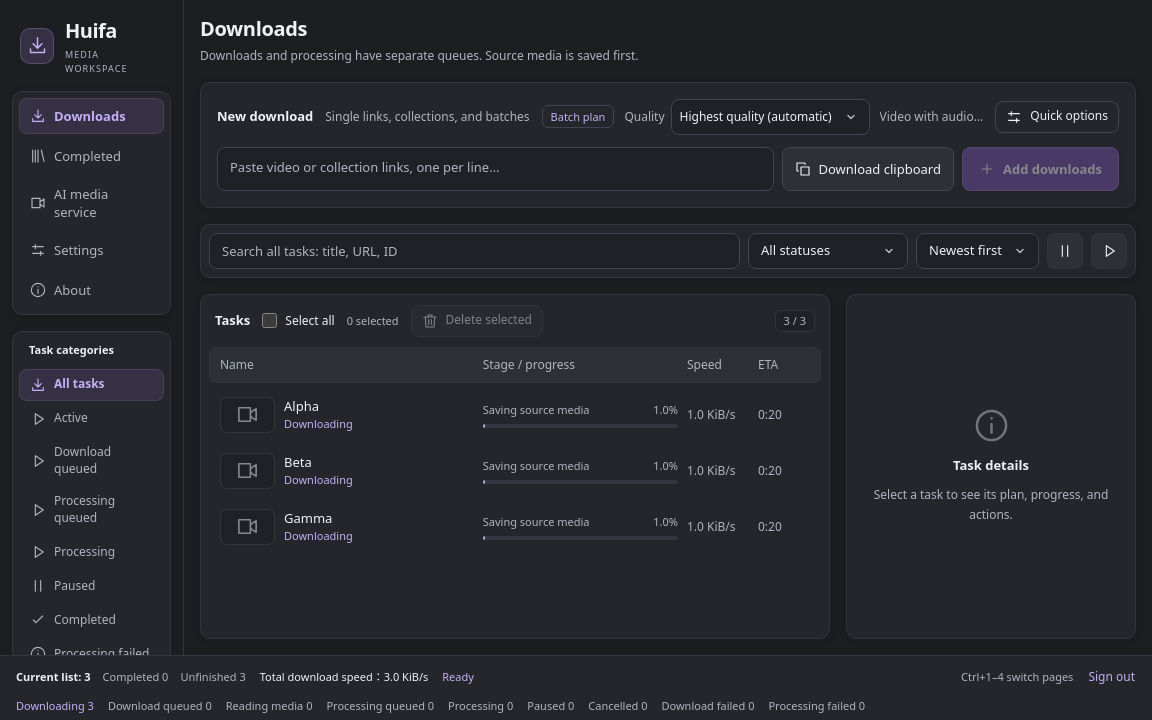
Test: task list multiple selection › confirms bulk deletion, preserves failures, and retries only the failed tasks
Expected: the list is shown, [220,397,782,545]
Click the checkbox named "Select all tasks in this list" at {"x": 270, "y": 321}, box [262,313,277,328]
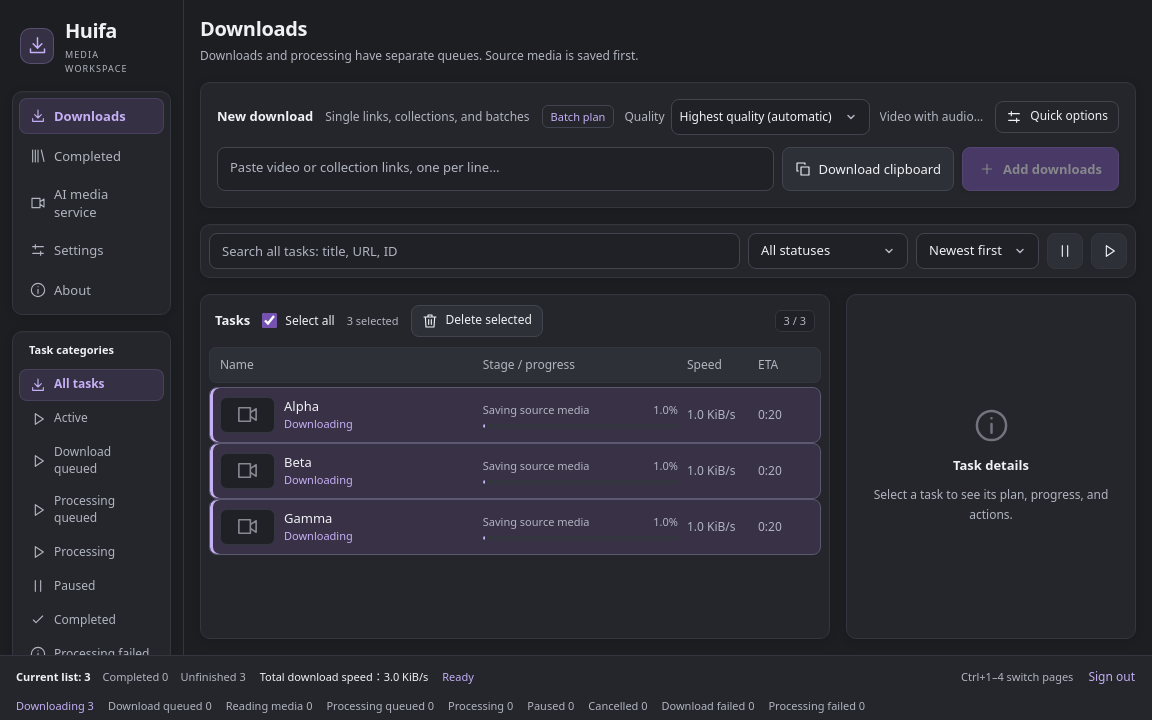
Now the text "3 selected" is shown, box [347,312,399,329]
Click the button "Delete selected" at {"x": 477, "y": 321}, box [411,305,543,337]
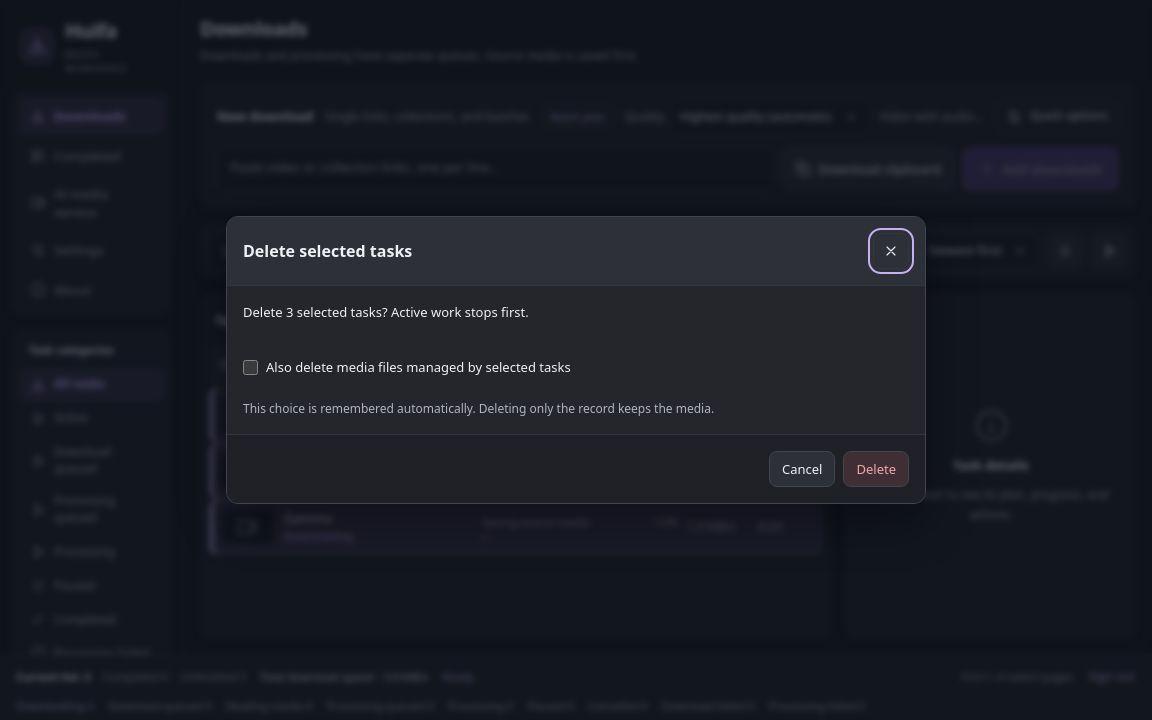
Click the button "Delete" at {"x": 876, "y": 469}, box [844,451,909,487]
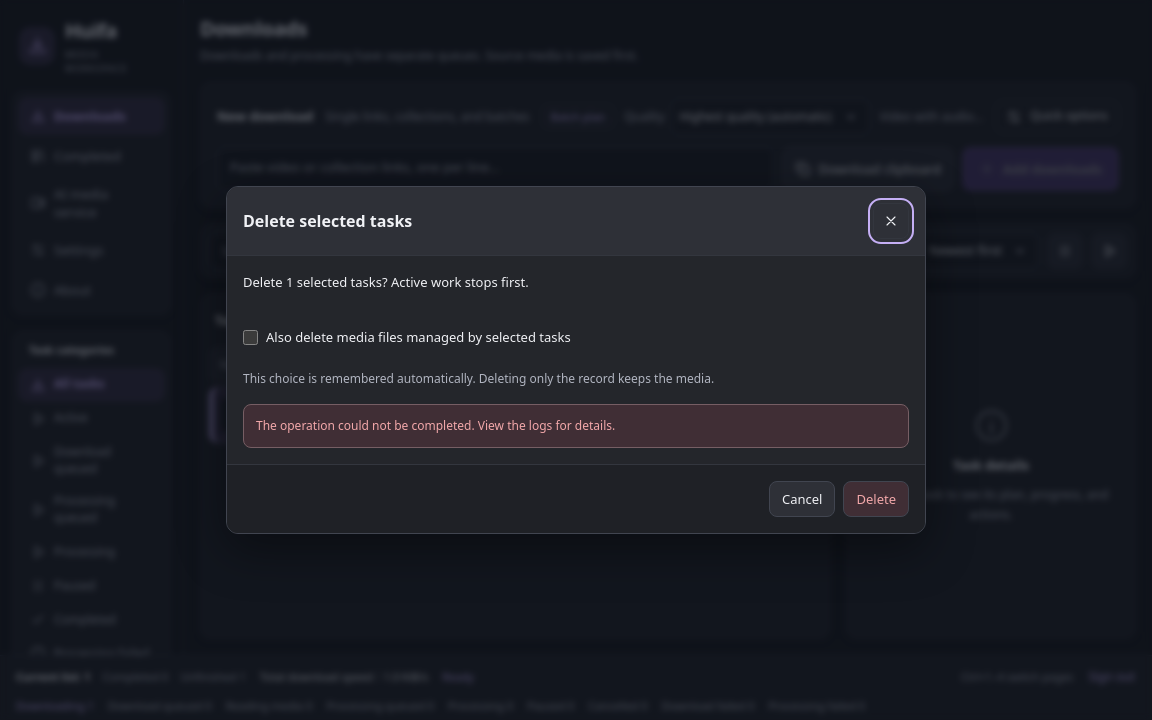
Now the button "Delete" is enabled
Now the message shows "View the logs for details", box [256,417,615,434]
Now the text "Delete 1 selected tasks? Active work stops first." is shown, box [243,273,529,291]
Click the button "Delete" at {"x": 876, "y": 499}, box [844,481,909,517]
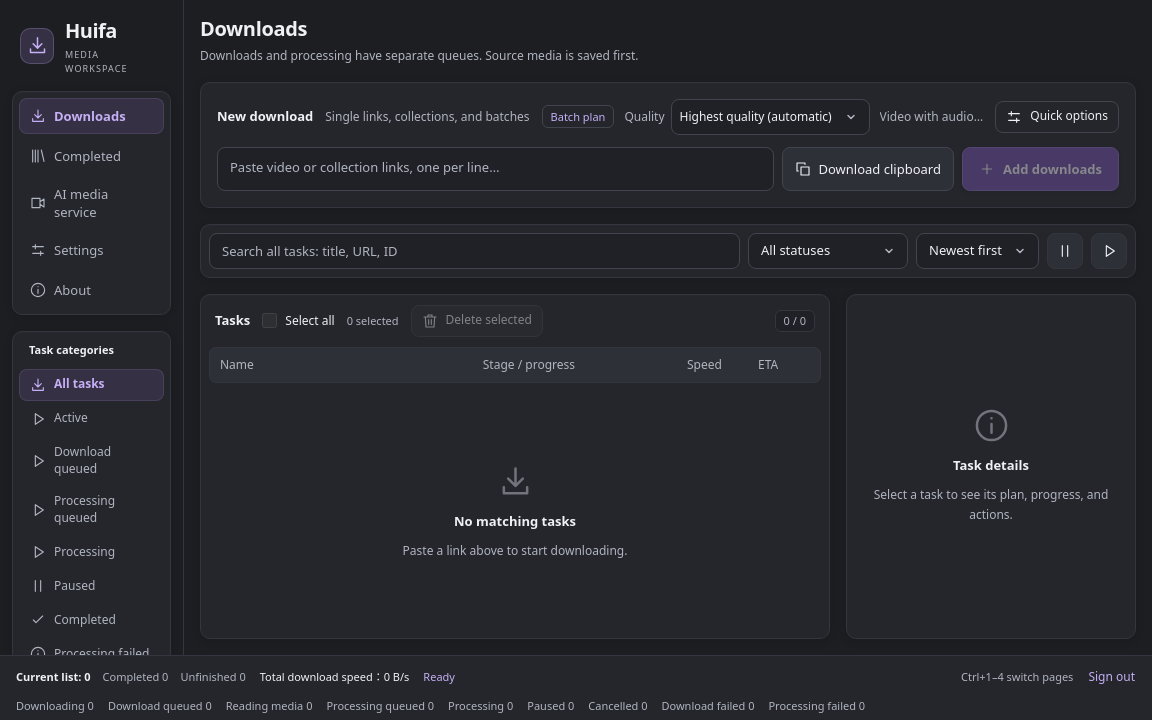
Now the dialog is gone
Now the text "0 selected" is shown, box [347,312,399,329]
